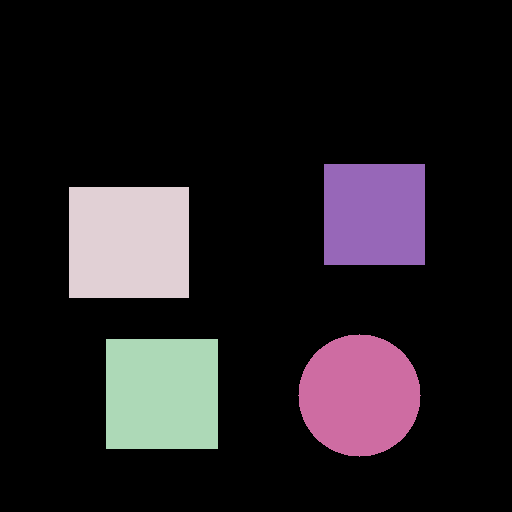circle: (298, 334, 420, 456)
square: (69, 187, 188, 297), (106, 339, 217, 448), (324, 164, 424, 264)
